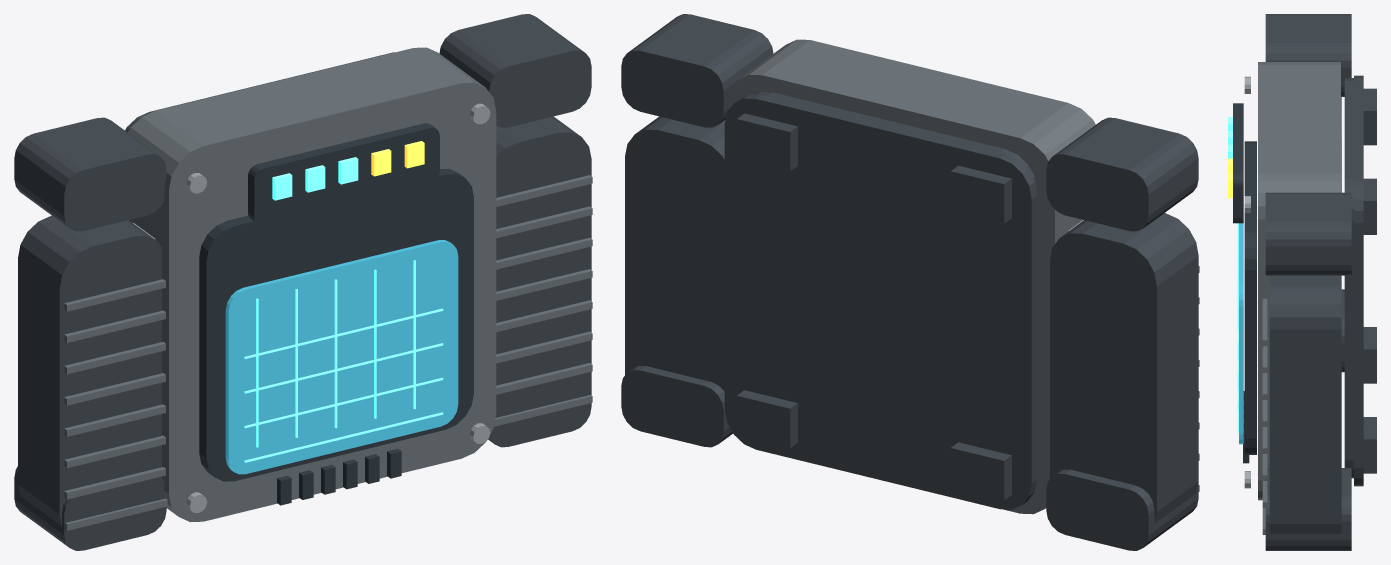
File: SM_AH_ContainmentScanner.glb
The picture shows the model from 3 angles, left to right: view 1: azimuth 30°, elevation 25°; view 2: azimuth 150°, elevation 25°; view 3: azimuth 270°, elevation 25°; orthographic projection. The views are drawn at different scales.
Visible parts, largest first — view 1: Chassis_Main, Display_Glass, Handle_L, Face_Bezel, Handle_R, Bumper_L_+0.10, Bumper_R_+0.10, Readout_Trim, Bumper_L_-0.10, Bumper_R_-0.10, HandleRib_L_02, HandleRib_L_04 (+14 smaller); view 2: Base_ShockSeal, Handle_L, Chassis_Main, Handle_R, Bumper_L_+0.10, Bumper_R_+0.10, Bumper_L_-0.10, Bumper_R_-0.10, CornerFoot_-1_1, CornerFoot_1_1, CornerFoot_-1_-1, CornerFoot_1_-1 (+1 smaller); view 3: Handle_R, Chassis_Main, Bumper_R_+0.10, Bumper_L_+0.10, Face_Bezel, Base_ShockSeal, Chassis_RearGasket, Bumper_R_-0.10, Readout_Trim, Display_Glass, CornerFoot_-1_1, CornerFoot_-1_-1 (+4 smaller).
Boxes of the visible parts, bbox=[...] form: Chassis_Main: bbox=[128, 47, 496, 522]; Display_Glass: bbox=[225, 240, 458, 474]; Handle_L: bbox=[18, 215, 161, 525]; Face_Bezel: bbox=[199, 168, 473, 481]; Handle_R: bbox=[496, 116, 591, 385]; Bumper_L_+0.10: bbox=[14, 117, 166, 231]; Bumper_R_+0.10: bbox=[439, 14, 591, 127]; Readout_Trim: bbox=[248, 123, 439, 224]; Bumper_L_-0.10: bbox=[14, 466, 166, 550]; Bumper_R_-0.10: bbox=[488, 373, 591, 447]; HandleRib_L_02: bbox=[64, 435, 165, 468]; HandleRib_L_04: bbox=[64, 373, 165, 405]; Base_ShockSeal: bbox=[724, 94, 1036, 509]; Handle_L: bbox=[1050, 213, 1198, 523]; Chassis_Main: bbox=[730, 39, 1095, 514]; Handle_R: bbox=[625, 116, 725, 391]; Bumper_L_+0.10: bbox=[1046, 117, 1198, 231]; Bumper_R_+0.10: bbox=[621, 14, 773, 127]; Bumper_L_-0.10: bbox=[1046, 469, 1198, 550]; Bumper_R_-0.10: bbox=[621, 365, 732, 447]; CornerFoot_-1_1: bbox=[950, 165, 1011, 223]; CornerFoot_1_1: bbox=[736, 113, 797, 171]; CornerFoot_-1_-1: bbox=[950, 442, 1011, 500]; CornerFoot_1_-1: bbox=[736, 390, 797, 447]; Handle_R: bbox=[1269, 275, 1341, 533]; Chassis_Main: bbox=[1258, 62, 1340, 500]; Bumper_R_+0.10: bbox=[1265, 192, 1351, 275]; Bumper_L_+0.10: bbox=[1265, 14, 1351, 96]; Face_Bezel: bbox=[1244, 141, 1256, 454]; Base_ShockSeal: bbox=[1354, 75, 1363, 486]; Chassis_RearGasket: bbox=[1344, 78, 1357, 478]; Bumper_R_-0.10: bbox=[1265, 468, 1351, 550]; Readout_Trim: bbox=[1233, 103, 1243, 223]; Display_Glass: bbox=[1239, 223, 1243, 444]; CornerFoot_-1_1: bbox=[1363, 88, 1376, 145]; CornerFoot_-1_-1: bbox=[1363, 327, 1376, 383].
Size of the model in its own units: 0.338 by 0.231 by 0.095.
